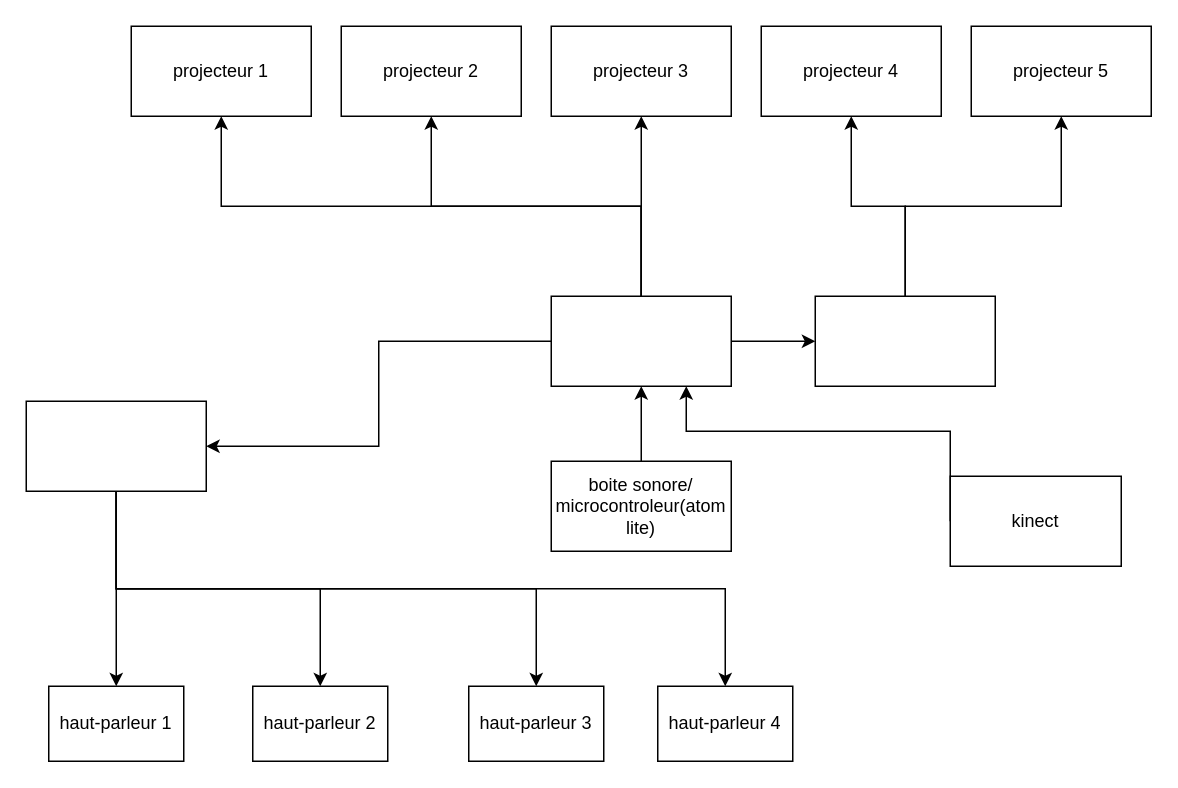
This 1178x788 diagram has some shape labels left out. The shapes that lost their labels are listed below. From the top down, each one's box as (x1, y1, x2, y2) in pixels, then its label:
(550, 295, 731, 386): ordinateur principale touchdesigner
(814, 295, 995, 386): ordinateur secondaire (ndi + touch out))
(25, 400, 206, 491): cartes son
